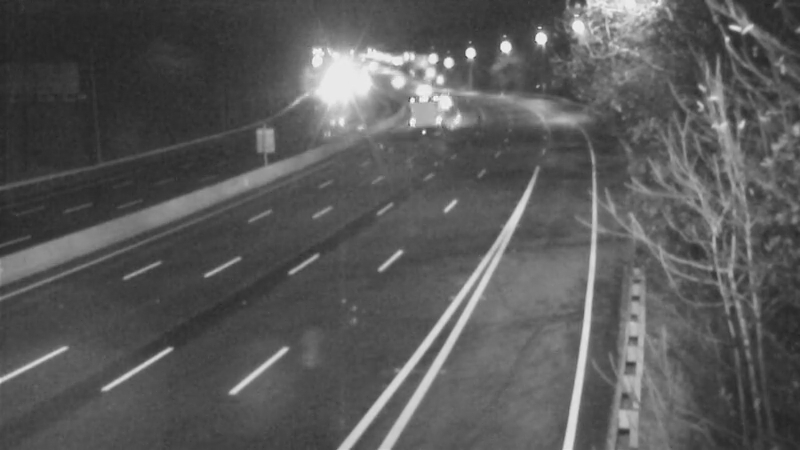vehicle: (368, 54, 418, 104), (388, 58, 438, 108), (416, 77, 466, 127), (395, 88, 445, 138)
